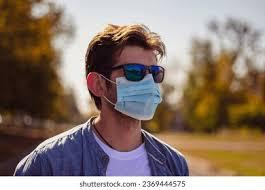mask: (112, 69, 167, 123)
sunglasses: (119, 59, 169, 85)
